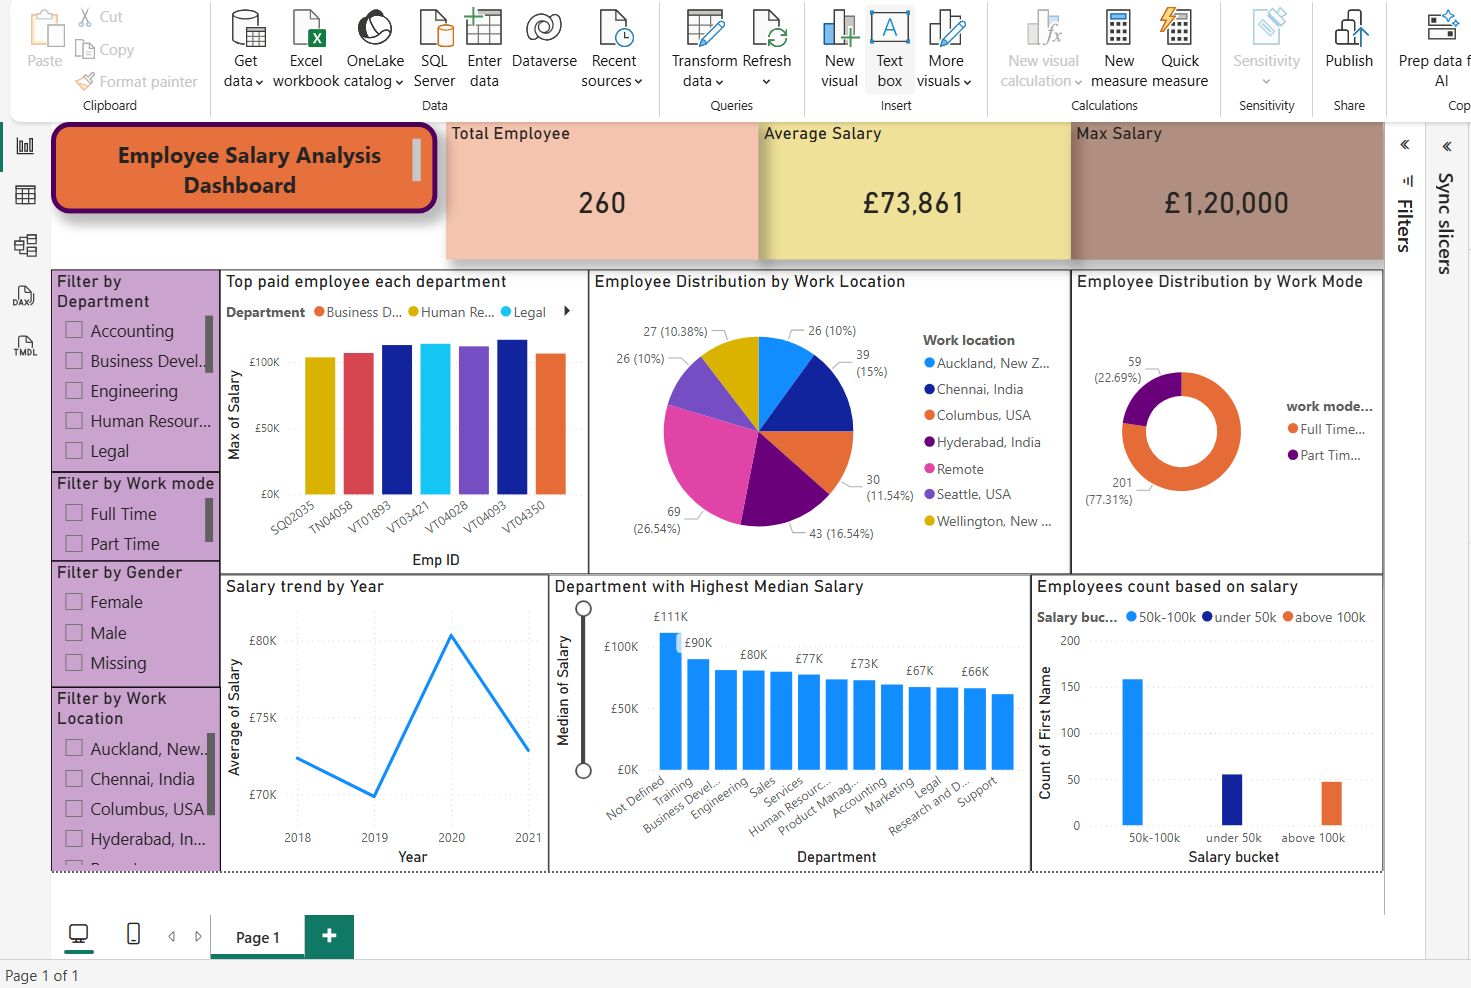

Layout of this report page (visuals, bound fields, positions):
{"tool":"powerbi","page":{"name":"Page 1","canvas":[1280,720],"ordinal":0},"visuals":[{"type":"lineClusteredColumnComboChart","title":"Department with Highest Median Salary","fields":{"Category":["Staff.Department"],"Y":["Staff.Salary"]},"box":[477.9,434.7,463.5,285.8],"z":0},{"type":"pieChart","title":"Employee Distribution by Work Location","fields":{"Category":["Staff.Work location"],"Y":["Staff.First Name"]},"box":[516.3,141.7,463.5,293],"z":1000},{"type":"donutChart","title":"Employee Distribution by Work Mode","fields":{"Y":["Staff.Emp ID"],"Category":["Staff.work mode","Staff.work mode"]},"box":[979.8,141.7,300.2,293],"z":2000},{"type":"clusteredColumnChart","title":"Employees count based on salary","fields":{"Category":["Staff.Salary bucket"],"Y":["Staff.First Name"],"Series":["Staff.Salary bucket"]},"box":[941.4,434.7,338.6,285.8],"z":3000},{"type":"columnChart","title":"Top paid employee each department","fields":{"Category":["Staff.Emp ID"],"Y":["Staff.Salary"],"Series":["Staff.Department"]},"box":[162.1,141.7,354.2,293],"z":4000},{"type":"lineChart","title":"Salary trend by Year","fields":{"Category":["Staff.Start Date.Variation.Date Hierarchy.Year"],"Y":["Staff.Salary"]},"box":[162.1,434.7,315.8,285.8],"z":5000},{"type":"card","title":"Average Salary","fields":{"Values":["Staff.Salary"]},"box":[679.6,0,300.2,132.1],"z":6000},{"type":"card","title":"Total Employee","fields":{"Values":["Staff.Emp ID"]},"box":[379.4,0,300.2,132.1],"z":7000},{"type":"card","title":"Max Salary","fields":{"Values":["Staff.Salary"]},"box":[979.8,0,300.2,132.1],"z":8000},{"type":"slicer","title":"Filter by Department","fields":{"Values":["Staff.Department"]},"box":[0,141.7,162.1,194.5],"z":9000},{"type":"slicer","title":"Filter by Gender","fields":{"Values":["Staff.Gender"]},"box":[0,421.5,162.1,121.3],"z":10000},{"type":"slicer","title":"Filter by Work mode","fields":{"Values":["Staff.work mode"]},"box":[0,336.2,162.1,85.3],"z":11000},{"type":"slicer","title":"Filter by Work Location","fields":{"Values":["Staff.Work location"]},"box":[0,542.7,163.3,177.7],"z":12000},{"type":"textbox","box":[0,0,371,87.7],"z":13000}]}

Visuals, with their boxes on the page's 1280x720 design canvas (x1, y1, x2, y2). These are canvas units, not pixel positions in the 1471x988 screenshot, which may show the page scaled, cropped or inside an application window:
"Department with Highest Median Salary" lineClusteredColumnComboChart: locate(478, 435, 941, 720)
"Employee Distribution by Work Location" pieChart: locate(516, 142, 980, 435)
"Employee Distribution by Work Mode" donutChart: locate(980, 142, 1280, 435)
"Employees count based on salary" clusteredColumnChart: locate(941, 435, 1280, 720)
"Top paid employee each department" columnChart: locate(162, 142, 516, 435)
"Salary trend by Year" lineChart: locate(162, 435, 478, 720)
"Average Salary" card: locate(680, 0, 980, 132)
"Total Employee" card: locate(379, 0, 680, 132)
"Max Salary" card: locate(980, 0, 1280, 132)
"Filter by Department" slicer: locate(0, 142, 162, 336)
"Filter by Gender" slicer: locate(0, 422, 162, 543)
"Filter by Work mode" slicer: locate(0, 336, 162, 422)
"Filter by Work Location" slicer: locate(0, 543, 163, 720)
textbox: locate(0, 0, 371, 88)
